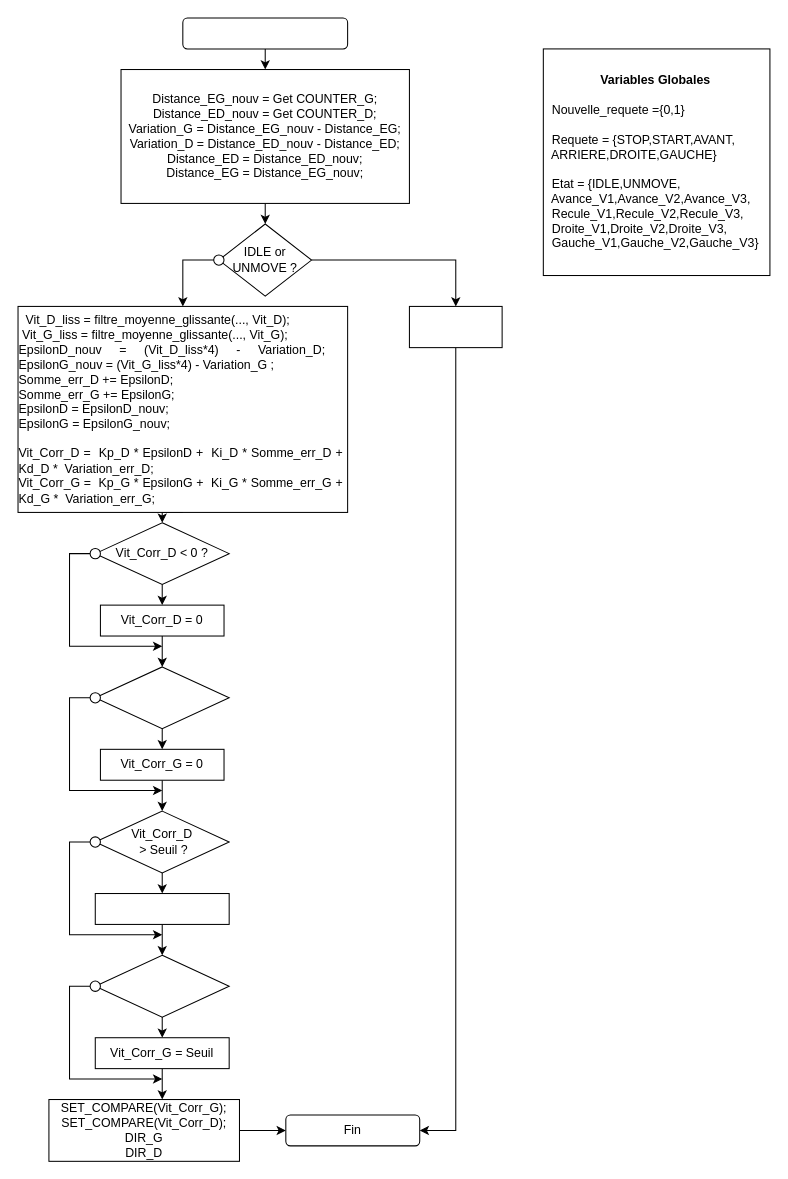
Some shapes in this 788 by 1179 pixel diagram are drawn without their labels. The centre of each missing label's shape, as x and y in pixels:
Asservissement(): point 265,33
Vit_Corr_D = Seuil: point 161,908
Vit_Corr_G < 0 ?: point 161,697
Vit_Corr_G > Seuil ?: point 161,985
Vit_G = 0; Vit_D = 0;: point 455,326
